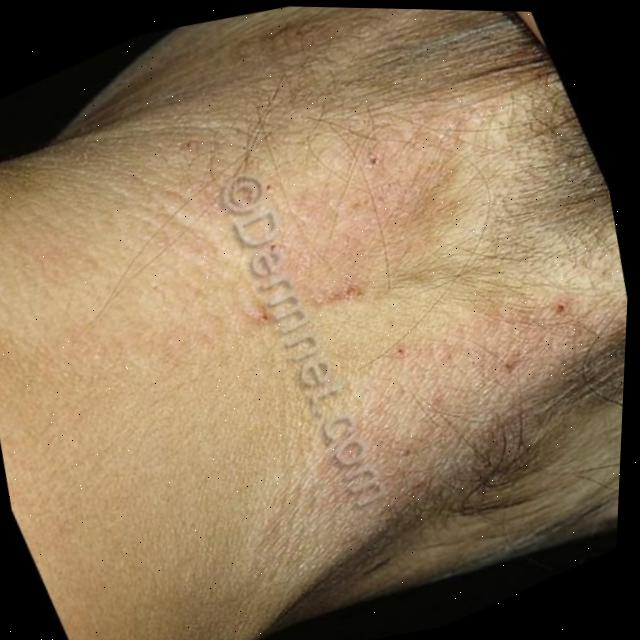Eczema: (204, 121, 571, 486)
